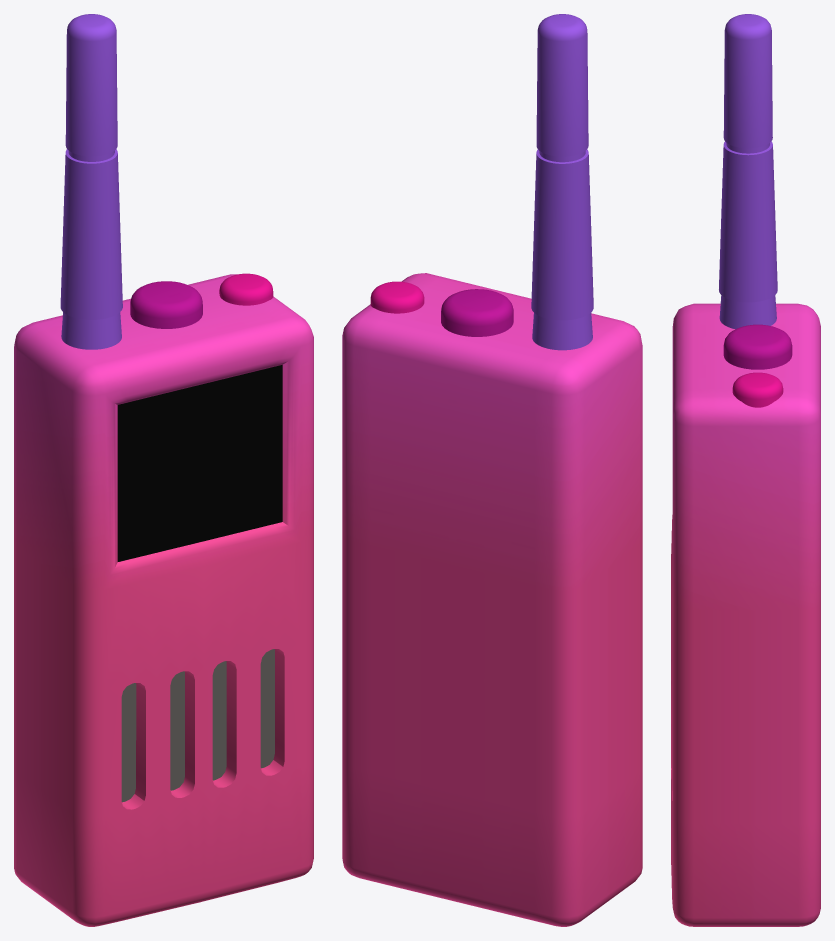
The model's file is Adventurer_Communicator_Accessory.glb.
The picture shows the model from 3 angles, left to right: view 1: azimuth 30°, elevation 25°; view 2: azimuth 150°, elevation 25°; view 3: azimuth 270°, elevation 25°; orthographic projection. The views are drawn at different scales.
Visible parts, largest first — view 1: Hobby_Communicator_Accessory; view 2: Hobby_Communicator_Accessory; view 3: Hobby_Communicator_Accessory.
Part boxes in pixels (<box>): Hobby_Communicator_Accessory: <box>14,14,313,926</box>; Hobby_Communicator_Accessory: <box>342,14,642,926</box>; Hobby_Communicator_Accessory: <box>671,14,820,926</box>.
Size of the model in its own units: 0.2343 by 0.821 by 0.1353.
Materials: 1 (1 with a texture image).
